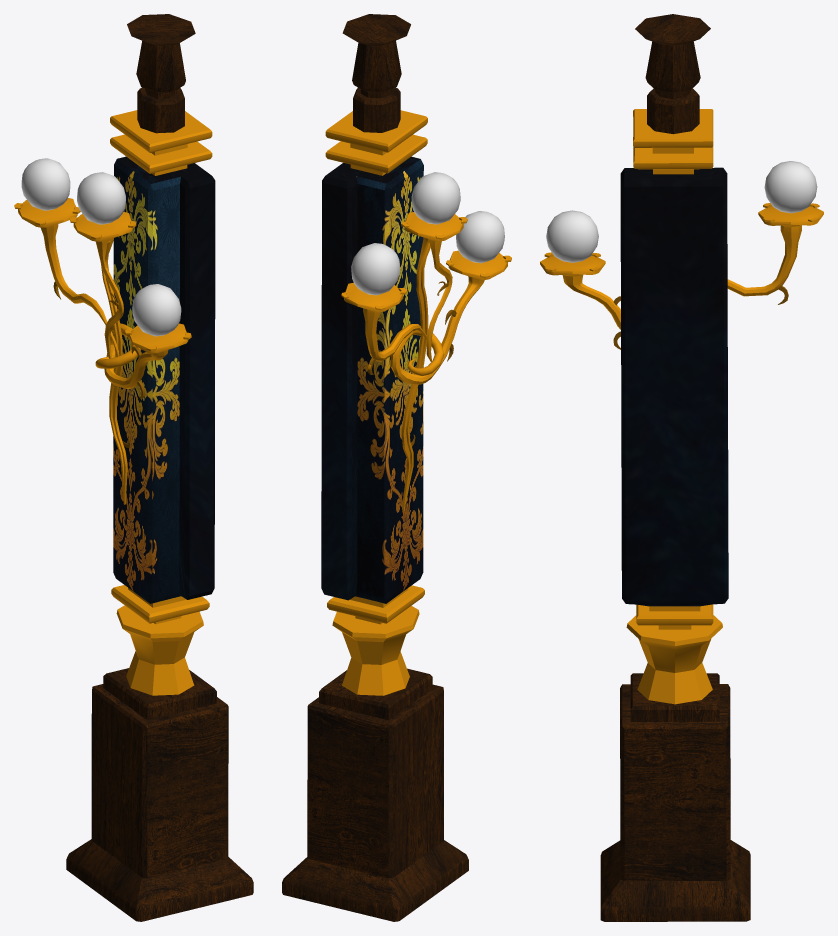
The model's file is Pillar Lamp.fbx.
The picture shows the model from 3 angles, left to right: view 1: azimuth 30°, elevation 25°; view 2: azimuth 150°, elevation 25°; view 3: azimuth 270°, elevation 25°; orthographic projection.
Parts seen in each view (by area): view 1: Wall Pillar.024; view 2: Wall Pillar.024; view 3: Wall Pillar.024.
Boxes of the visible parts, x1,y1,x2,y2 form: Wall Pillar.024: (14, 14, 253, 921); Wall Pillar.024: (282, 14, 511, 921); Wall Pillar.024: (540, 14, 823, 921).
Bounding box in the file's own units: 29.45 × 169 × 50.31.
